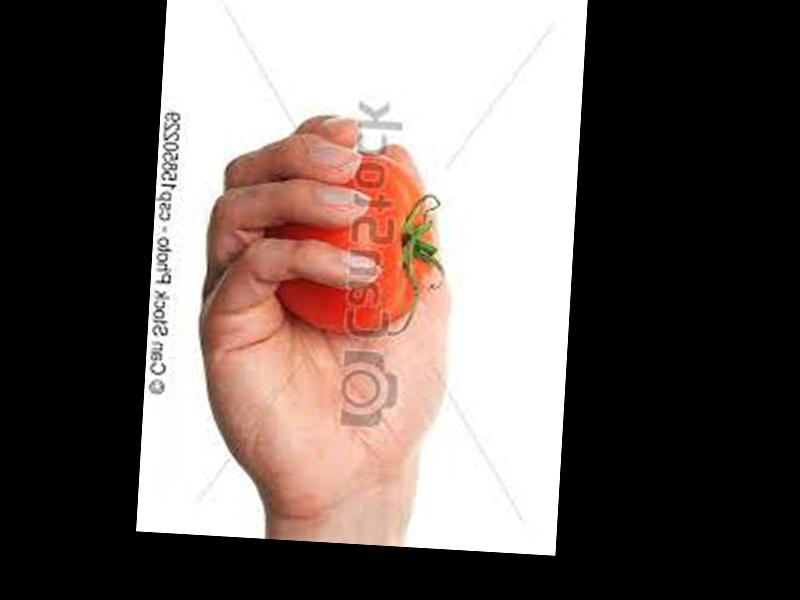Tomato: (265, 148, 437, 333)
